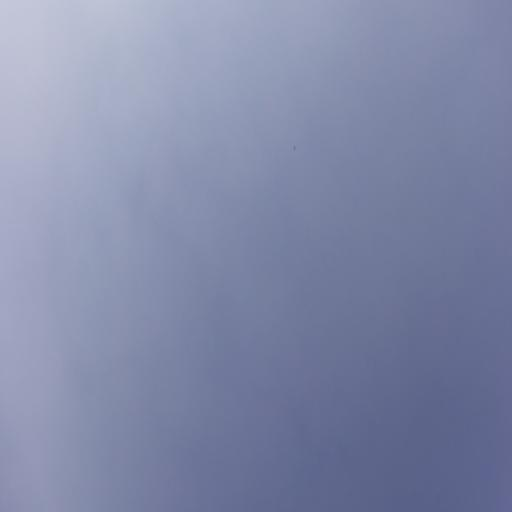drones: (292, 146, 296, 152)
